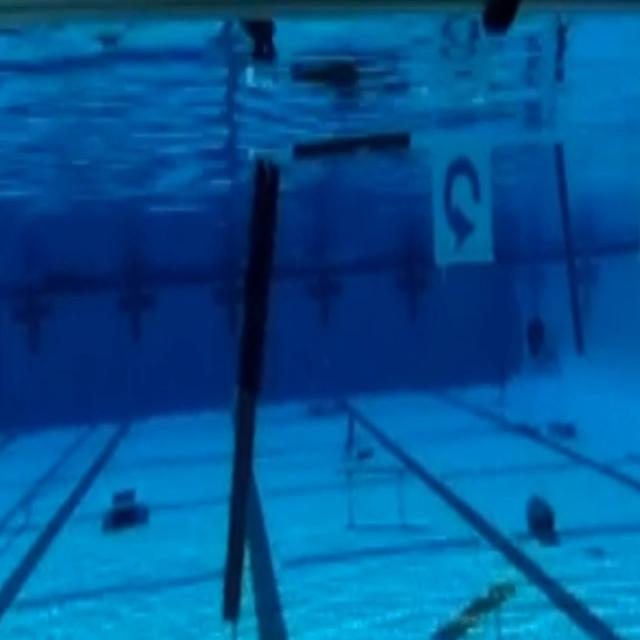Gate: (217, 112, 640, 640)
